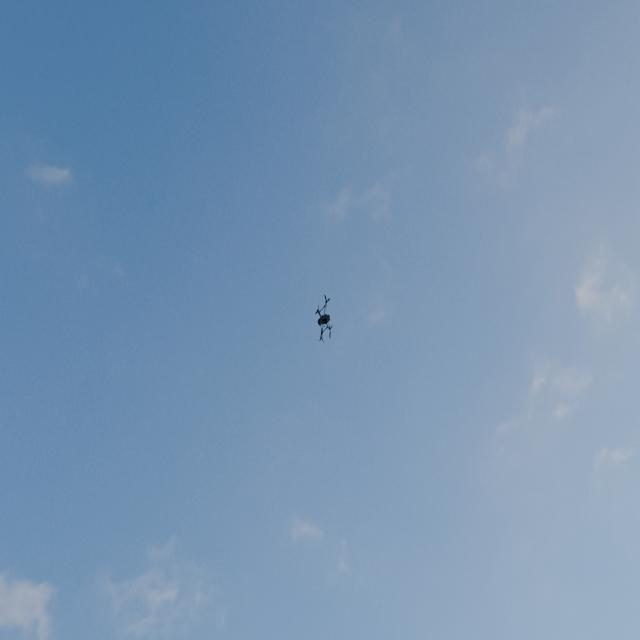drone: (309, 289, 341, 350)
